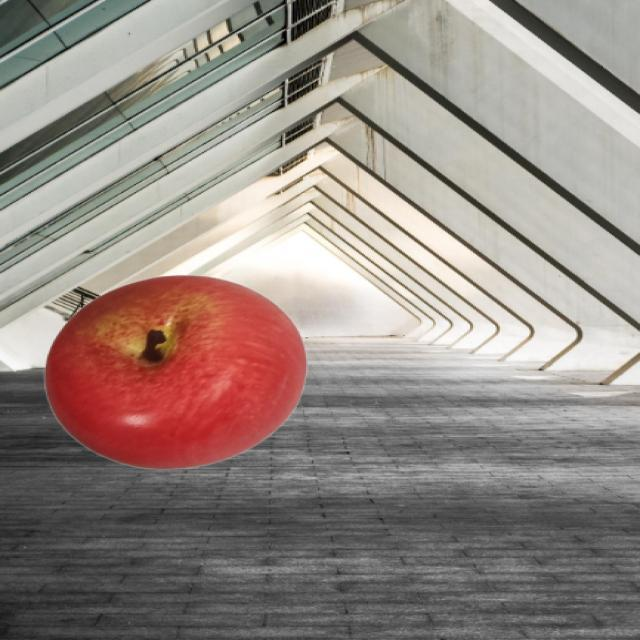apple: (41, 274, 308, 471)
